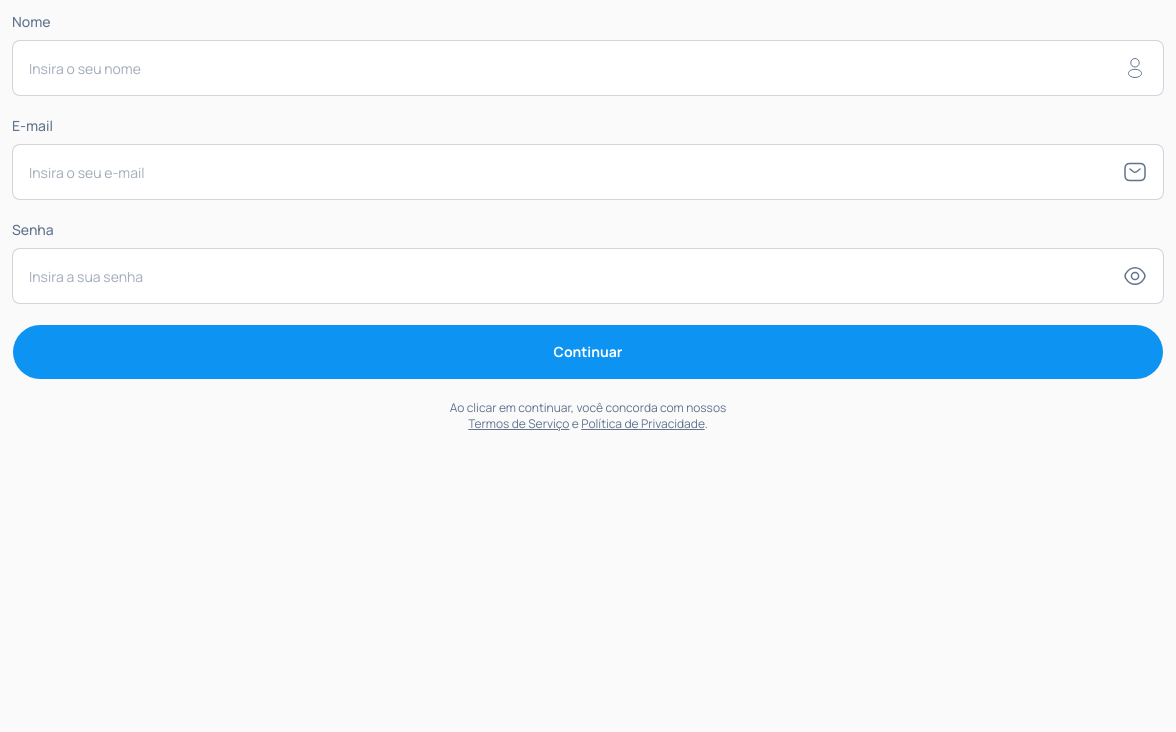
it: RegisterForm › shows error for name shorter than 2 characters
The width and height of the screenshot is (1176, 732).
Type "A" into the field with placeholder "Insira o seu nome" at (576, 68), box [29, 41, 1123, 95]
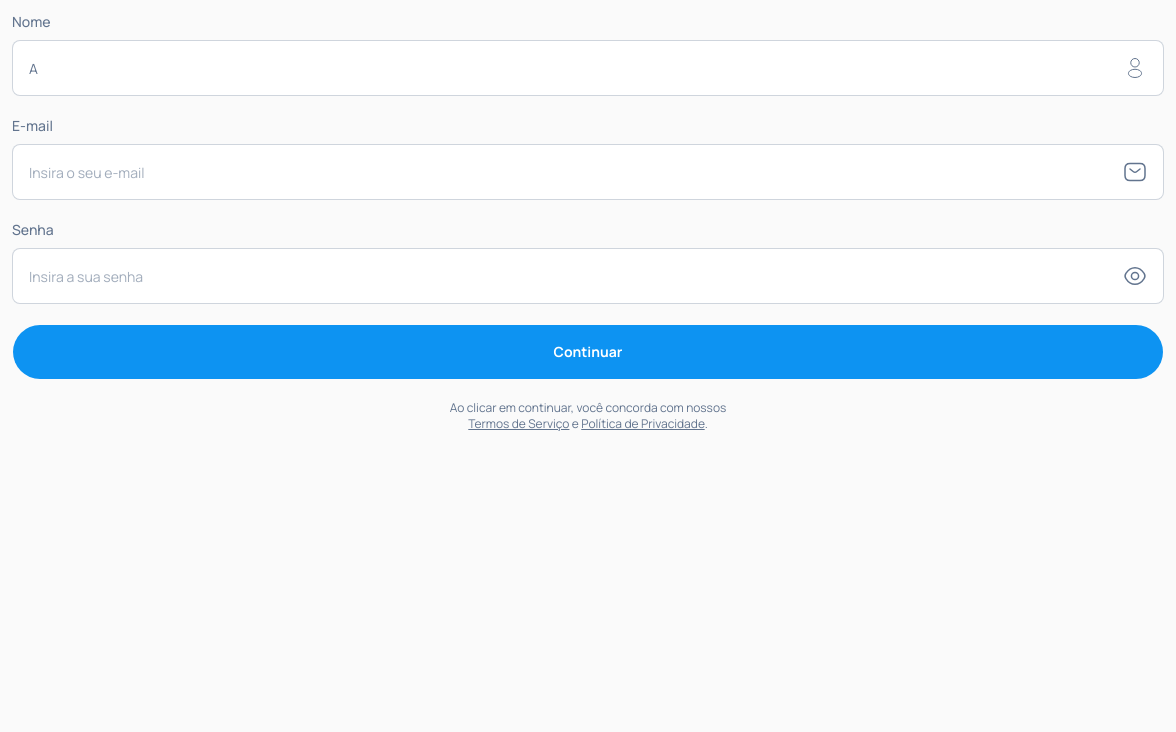
Click the button "Continuar" at (588, 352), box [12, 324, 1164, 380]
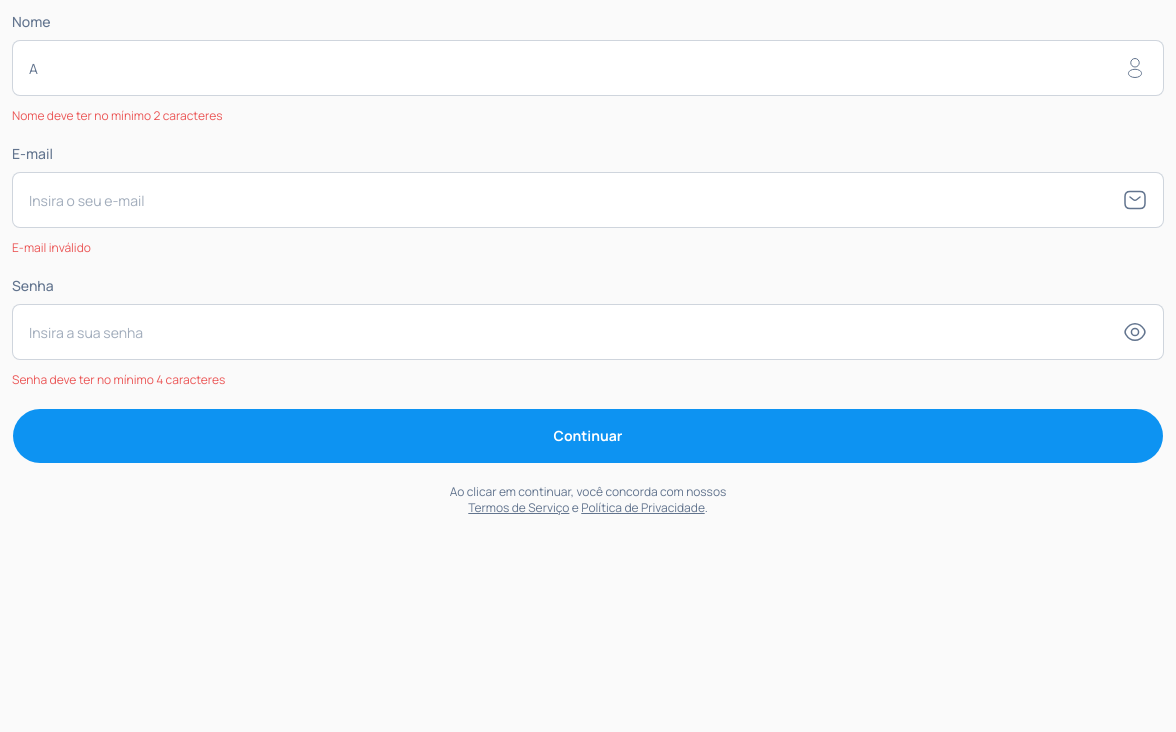
Result: the text "Nome deve ter no mínimo 2 caracteres" is shown at [12, 107, 222, 124]
